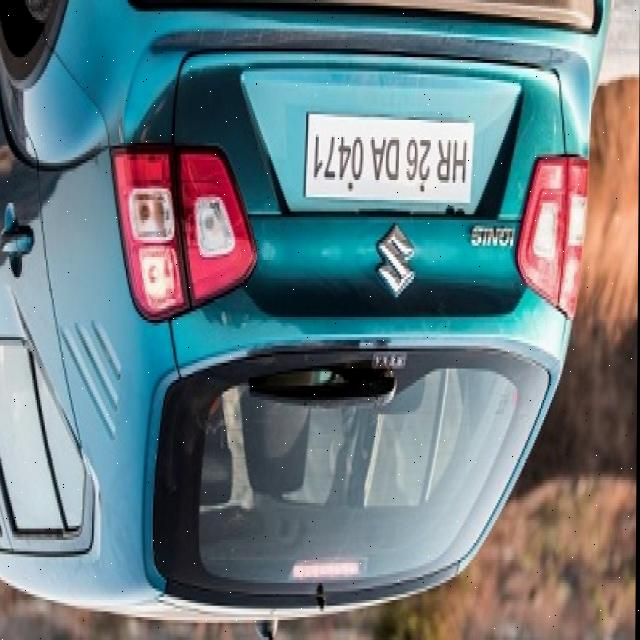plate: (305, 105, 474, 205)
